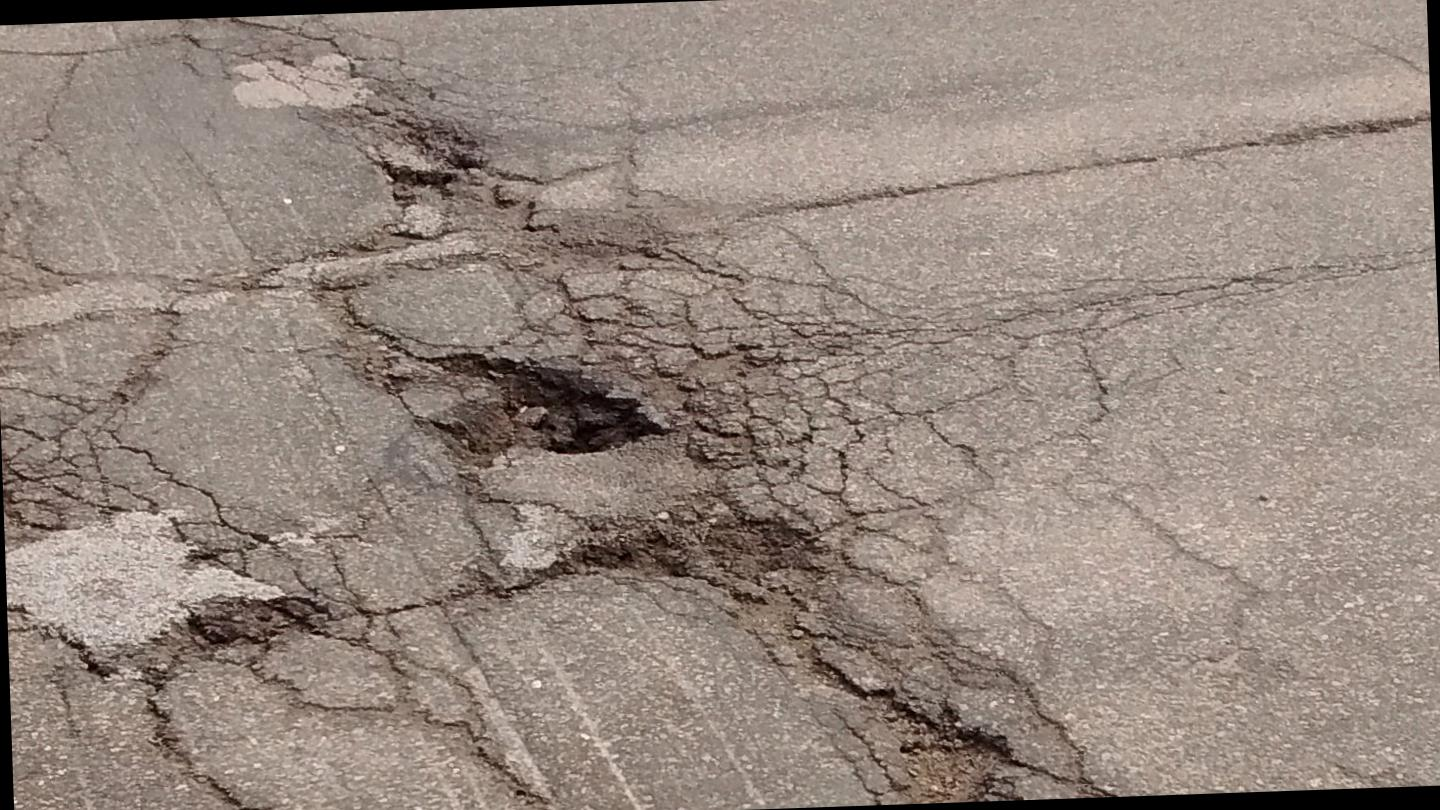pothole: (350, 276, 750, 538)
